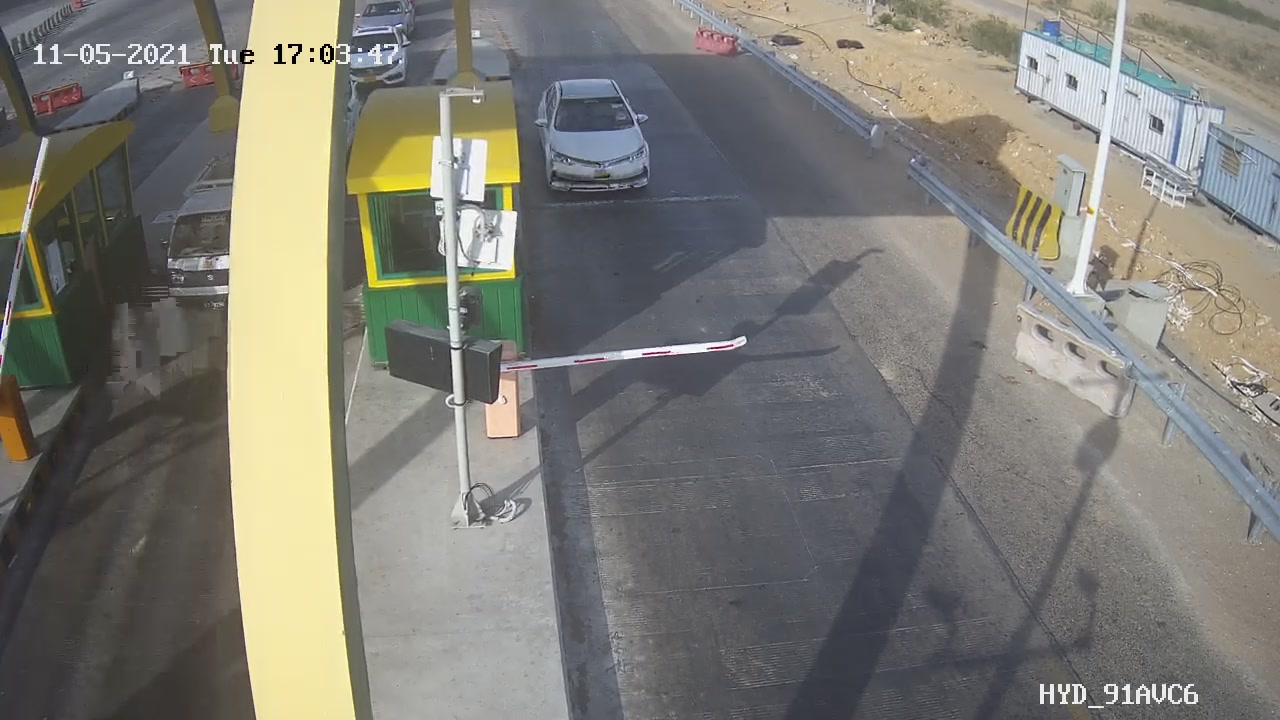F1: (518, 65, 678, 218)
